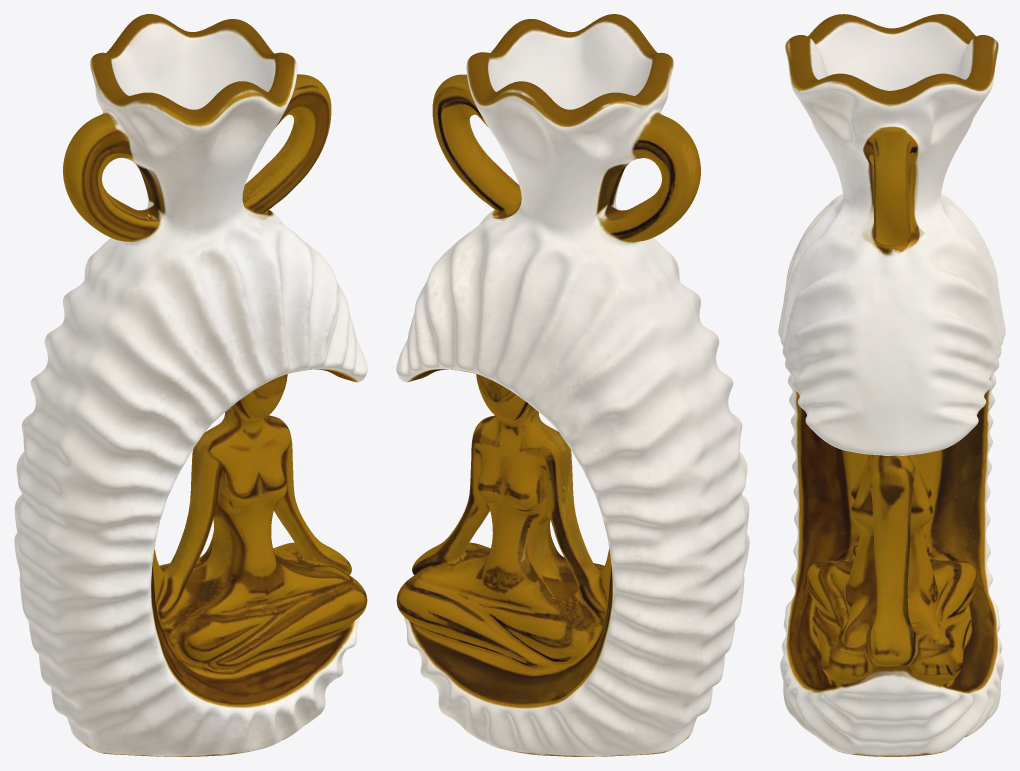
The model's file is bed-yoga-lady-vase.glb.
The picture shows the model from 3 angles, left to right: view 1: azimuth 30°, elevation 25°; view 2: azimuth 150°, elevation 25°; view 3: azimuth 270°, elevation 25°; orthographic projection.
Visible parts, largest first — view 1: mesh_node; view 2: mesh_node; view 3: mesh_node.
Boxes of the visible parts, left/top/right/bottom form: mesh_node: left=14, top=14, right=367, bottom=756; mesh_node: left=396, top=14, right=749, bottom=756; mesh_node: left=778, top=14, right=1005, bottom=756.
Size of the model in its own units: 0.9295 by 1.9 by 0.5869.
Materials: 1 (1 with a texture image).
